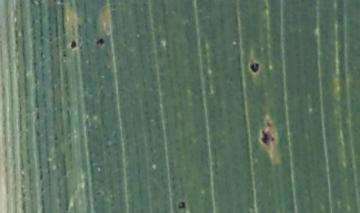tarspot: (261, 129, 270, 143), (249, 62, 260, 73), (96, 38, 106, 46), (70, 39, 77, 48), (265, 119, 272, 128), (178, 201, 186, 208), (270, 136, 276, 142)
